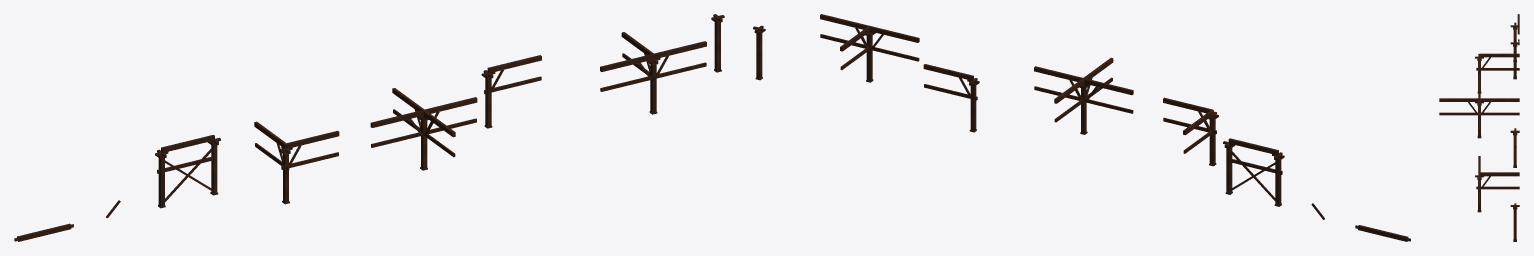
File: timber_structures.glb
The picture shows the model from 3 angles, left to right: view 1: azimuth 30°, elevation 25°; view 2: azimuth 150°, elevation 25°; view 3: azimuth 270°, elevation 25°; orthographic projection. The views are drawn at different scales.
Parts seen in each view (by area): view 1: IC09_Frame_Cross__Mesh, IC09_Frame_T__Mesh, IC09_Frame_Bay_Braced__Mesh, IC09_Frame_Corner__Mesh, IC09_Frame_Straight__Mesh, IC09_Pillar__Mesh; view 2: IC09_Frame_Cross__Mesh, IC09_Frame_T__Mesh, IC09_Frame_Bay_Braced__Mesh, IC09_Frame_Corner__Mesh, IC09_Frame_Straight__Mesh, IC09_Pillar__Mesh; view 3: IC09_Frame_Cross__Mesh, IC09_Frame_T__Mesh, IC09_Frame_Corner__Mesh, IC09_Frame_Bay_Braced__Mesh, IC09_Frame_Straight__Mesh, IC09_Pillar__Mesh, IC09_Beam_4m__Mesh.
Boxes of the visible parts, x1,y1,x2,y2 form: IC09_Frame_Cross__Mesh: (370, 88, 477, 170); IC09_Frame_T__Mesh: (600, 32, 706, 114); IC09_Frame_Bay_Braced__Mesh: (155, 135, 220, 208); IC09_Frame_Corner__Mesh: (254, 121, 339, 204); IC09_Frame_Straight__Mesh: (481, 55, 541, 128); IC09_Pillar__Mesh: (711, 14, 724, 72); IC09_Frame_Cross__Mesh: (1034, 57, 1133, 134); IC09_Frame_T__Mesh: (820, 14, 919, 82); IC09_Frame_Bay_Braced__Mesh: (1223, 138, 1284, 206); IC09_Frame_Corner__Mesh: (1163, 97, 1218, 166); IC09_Frame_Straight__Mesh: (923, 64, 979, 132); IC09_Pillar__Mesh: (753, 25, 765, 80); IC09_Frame_Cross__Mesh: (1439, 81, 1519, 138); IC09_Frame_T__Mesh: (1475, 156, 1519, 212); IC09_Frame_Corner__Mesh: (1475, 53, 1519, 93); IC09_Frame_Bay_Braced__Mesh: (1510, 22, 1519, 79); IC09_Frame_Straight__Mesh: (1510, 128, 1519, 167); IC09_Pillar__Mesh: (1510, 203, 1519, 241); IC09_Beam_4m__Mesh: (1517, 14, 1519, 34).
Size of the model in its own units: 53.73 by 4.42 by 8.
Materials: 3 (2 with a texture image).
